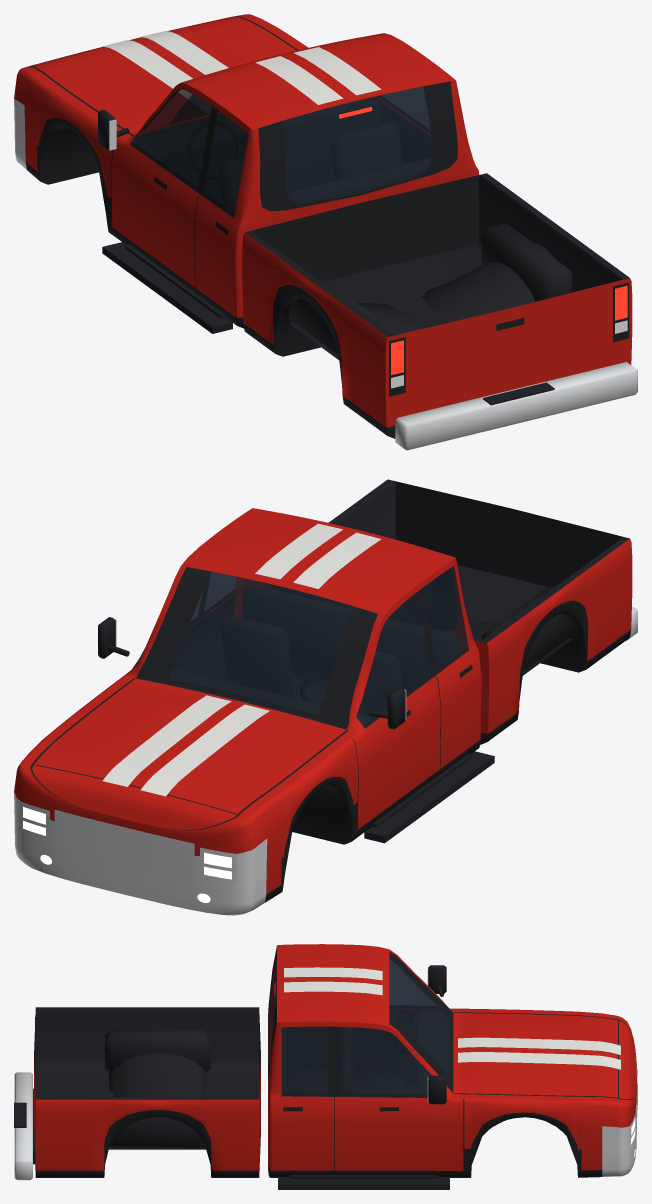
Rendered from pickup_body.glb.
3 renders of one model, top to bottom at view 1: azimuth 30°, elevation 25°; view 2: azimuth 150°, elevation 25°; view 3: azimuth 270°, elevation 25°, orthographic. The views are drawn at different scales.
Parts seen in each view (by area): view 1: PickupBody, RearBumper, Stripes, FrontBumper; view 2: PickupBody, FrontBumper, Stripes; view 3: PickupBody, Stripes, RearBumper, FrontBumper.
Boxes of the visible parts, <box> form: PickupBody: <box>14,14,632,438</box>; RearBumper: <box>395,362,637,450</box>; Stripes: <box>103,31,381,104</box>; FrontBumper: <box>14,99,26,169</box>; PickupBody: <box>14,479,632,902</box>; FrontBumper: <box>14,792,267,915</box>; Stripes: <box>102,523,381,796</box>; PickupBody: <box>33,944,637,1189</box>; Stripes: <box>284,967,620,1069</box>; RearBumper: <box>14,1072,32,1180</box>; FrontBumper: <box>602,1094,636,1176</box>.
Size of the model in its own units: 2.35 by 1.52 by 5.44.
